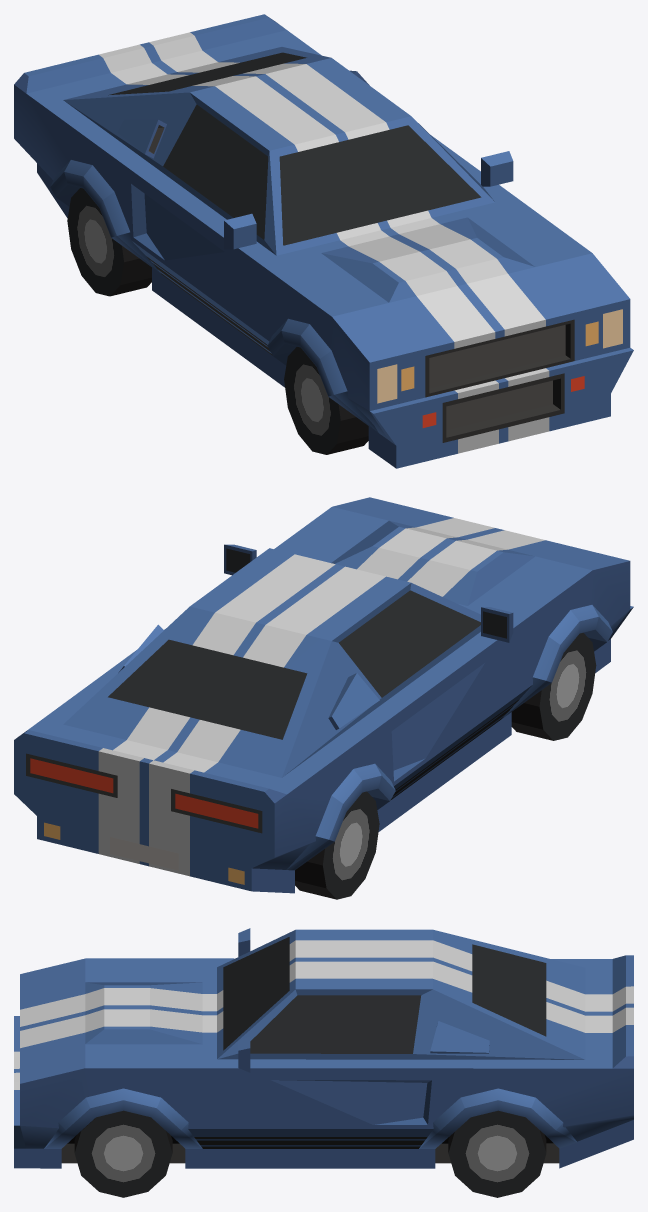
File: MuscleCar_Blue.fbx
3 views of the same model, one above another, from view 1: azimuth 30°, elevation 25°; view 2: azimuth 150°, elevation 25°; view 3: azimuth 270°, elevation 25° (orthographic). The views are drawn at different scales.
Parts seen in each view (by area): view 1: SR_Veh_MuscleCar_Blue, SR_Veh_MuscleCar_Wheel_FR, SR_Veh_MuscleCar_Wheel_RR; view 2: SR_Veh_MuscleCar_Blue, SR_Veh_MuscleCar_Wheel_RR, SR_Veh_MuscleCar_Wheel_FR; view 3: SR_Veh_MuscleCar_Blue, SR_Veh_MuscleCar_Wheel_RL, SR_Veh_MuscleCar_Wheel_FL.
Part boxes in pixels (<box>): SR_Veh_MuscleCar_Blue: <box>14,14,633,468</box>; SR_Veh_MuscleCar_Wheel_FR: <box>284,347,368,454</box>; SR_Veh_MuscleCar_Wheel_RR: <box>67,188,151,296</box>; SR_Veh_MuscleCar_Blue: <box>14,497,633,893</box>; SR_Veh_MuscleCar_Wheel_RR: <box>295,791,379,899</box>; SR_Veh_MuscleCar_Wheel_FR: <box>511,632,596,740</box>; SR_Veh_MuscleCar_Blue: <box>14,928,633,1168</box>; SR_Veh_MuscleCar_Wheel_RL: <box>448,1110,546,1197</box>; SR_Veh_MuscleCar_Wheel_FL: <box>74,1110,172,1197</box>.
Size of the model in its own units: 337 by 242 by 736.
1 material, 1 textured.
